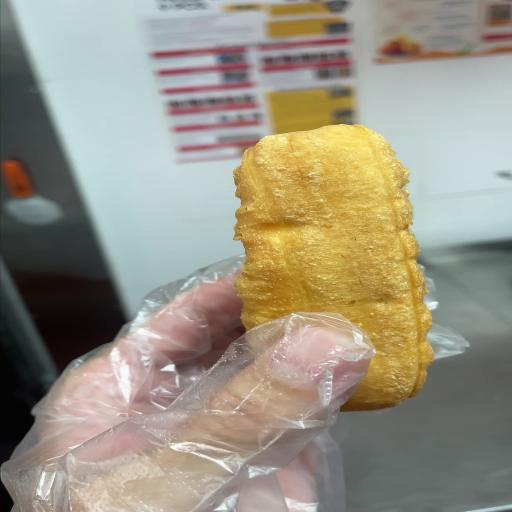brand_golden_good: (234, 125, 432, 410)
